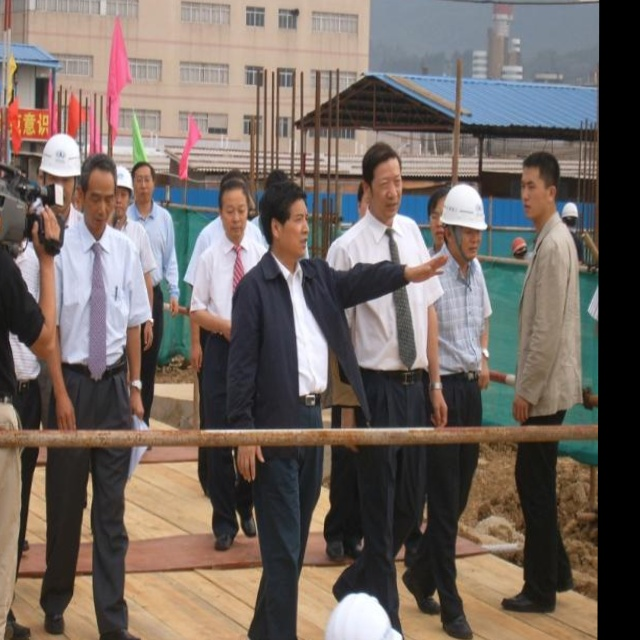Con_Casco: (443, 183, 487, 264)
Sin_Casco_Mascarrilla: (260, 180, 311, 261), (358, 143, 405, 219), (521, 152, 560, 223)
Sin_Chaleco: (234, 257, 340, 414), (514, 224, 584, 414)
